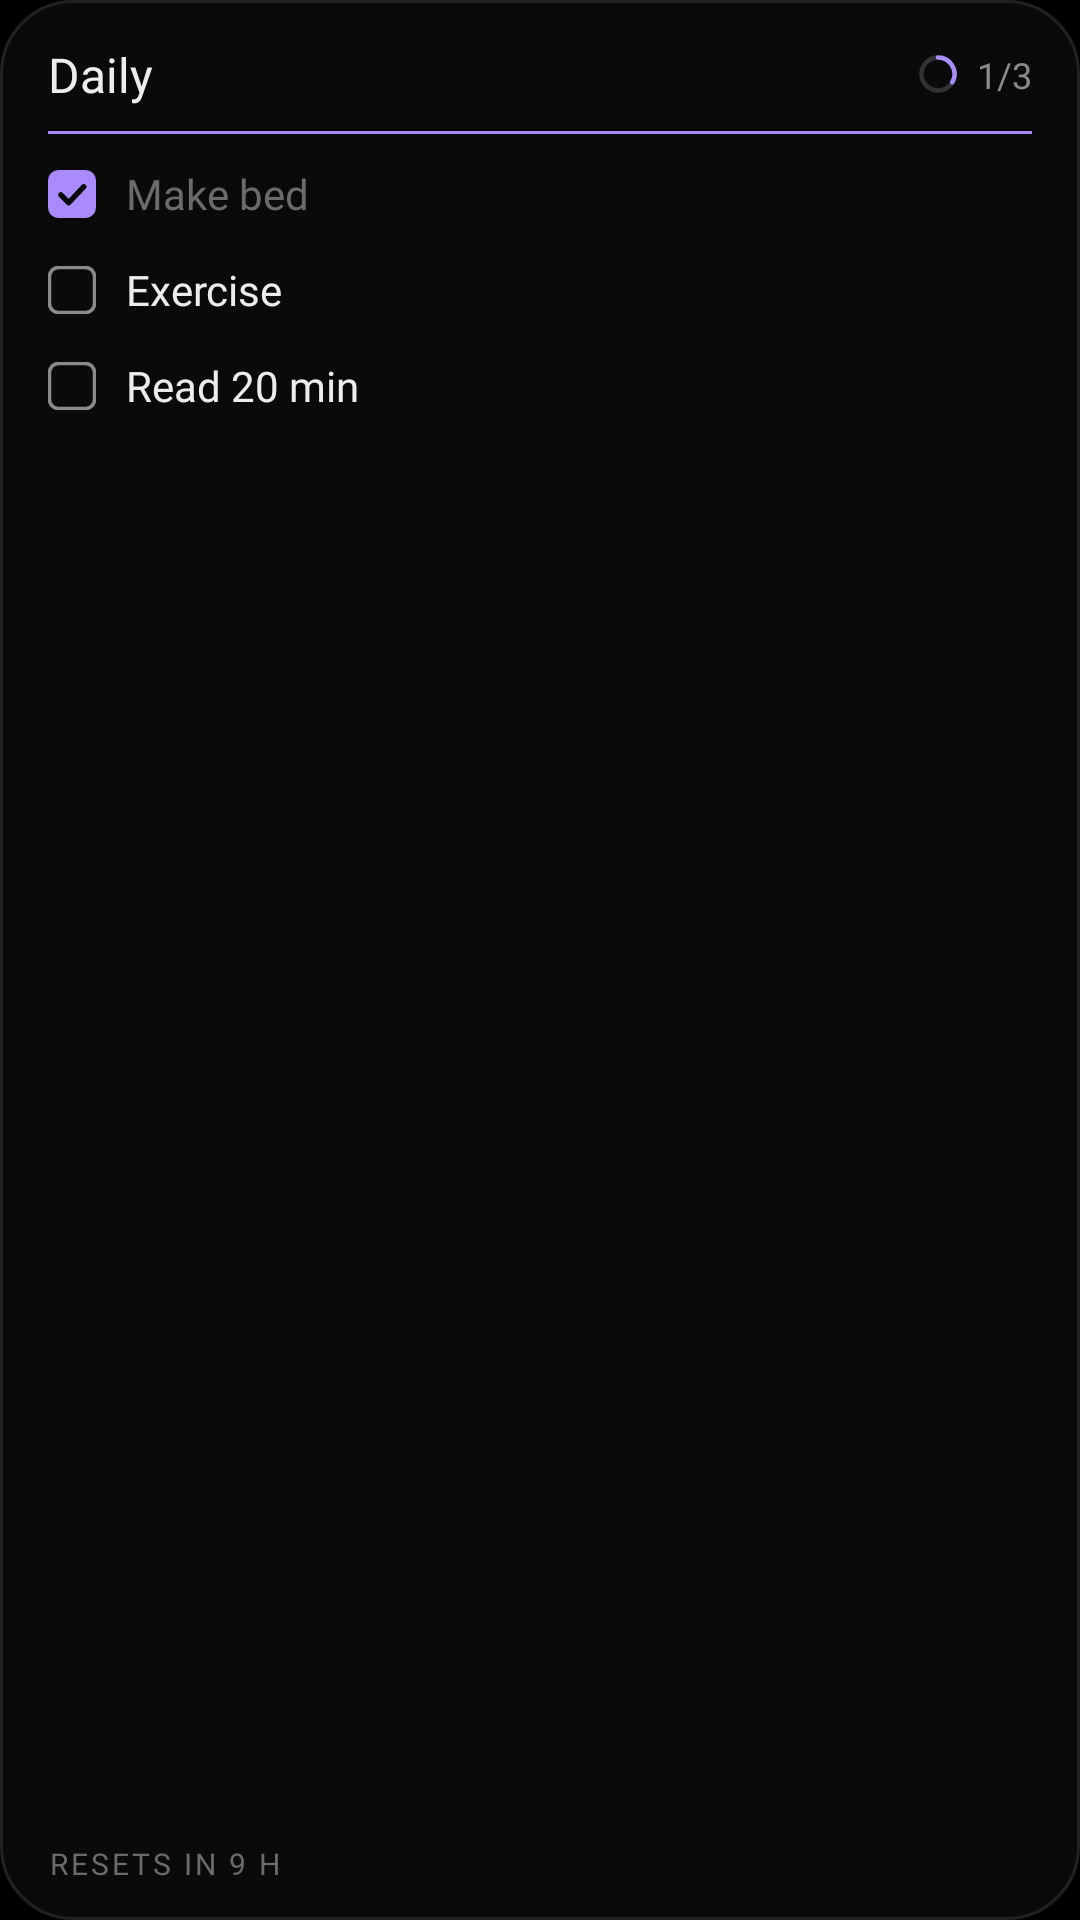

Icon bounding boxes for this 1080px x 1920px phone screenshot, format [x1, y1, x2, y2]:
check off: [48, 266, 96, 314], [48, 362, 96, 410]
check on: [48, 170, 96, 218]
ring third: [919, 55, 957, 93]
